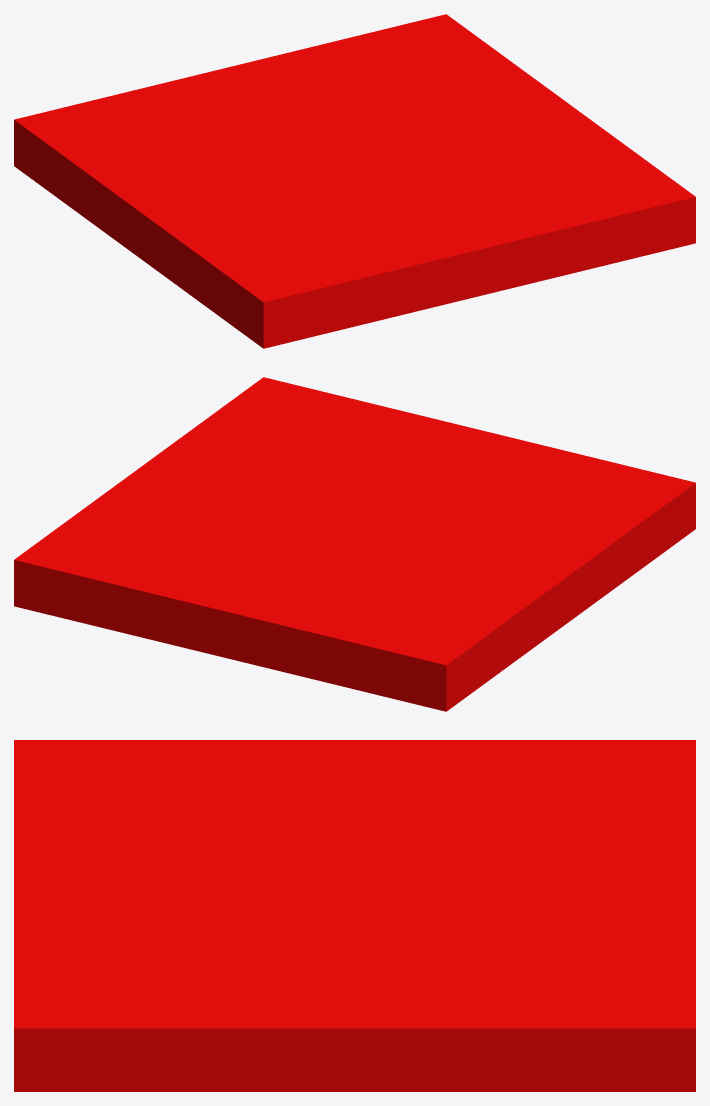
Rendered from ceiling light.fbx.
3 renders of one model, top to bottom at view 1: azimuth 30°, elevation 25°; view 2: azimuth 150°, elevation 25°; view 3: azimuth 270°, elevation 25°, orthographic. The views are drawn at different scales.
Visible parts, largest first — view 1: pCube48; view 2: pCube48; view 3: pCube48.
Boxes of the visible parts, x1,y1,x2,y2 form: pCube48: (14, 14, 695, 348); pCube48: (14, 377, 695, 711); pCube48: (14, 740, 695, 1091).
Size of the model in its own units: 1 by 0.1027 by 1.
